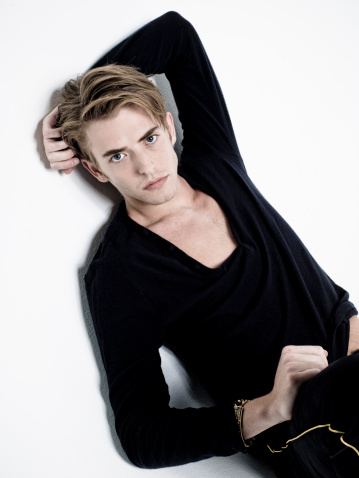deitado: (53, 43, 359, 473)
